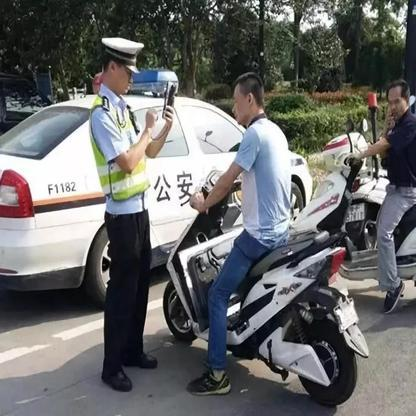target: (159, 71, 369, 408), (303, 79, 412, 314)
